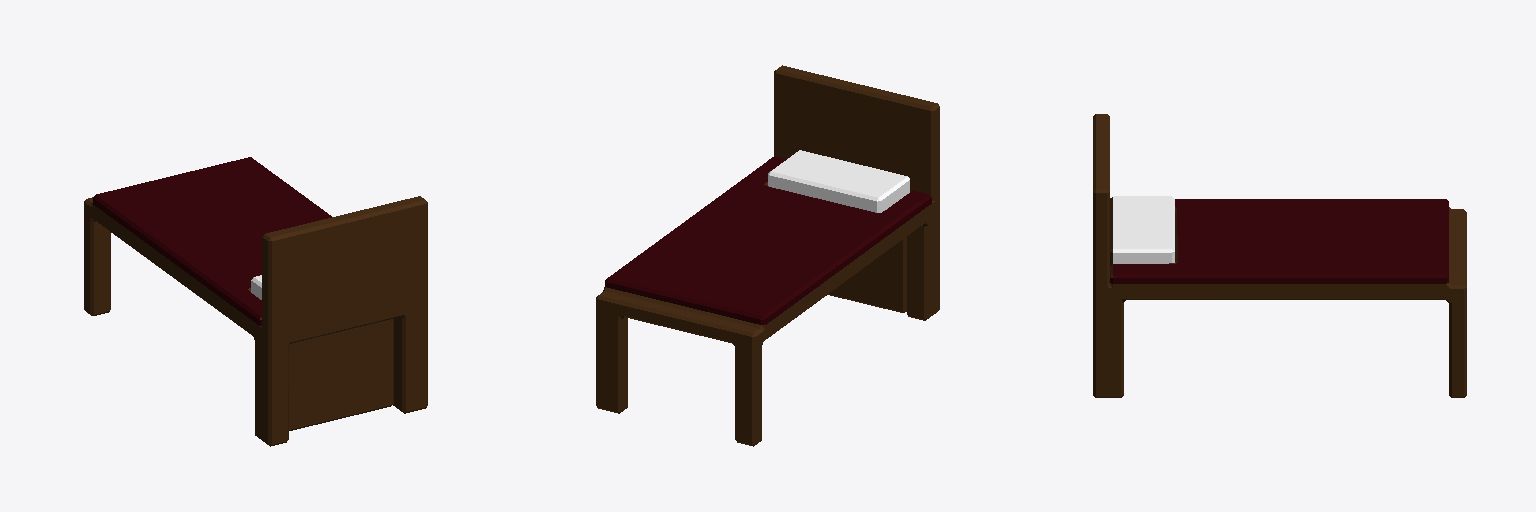
The model's file is Bed.obj.
The picture shows the model from 3 angles: view 1: azimuth 30°, elevation 25°; view 2: azimuth 150°, elevation 25°; view 3: azimuth 270°, elevation 25°; orthographic projection.
Visible parts, largest first — view 1: pCube8; view 2: pCube8; view 3: pCube8.
Boxes of the visible parts, box(x1,y1,x2,y2) form: pCube8: box(84, 157, 427, 446); pCube8: box(596, 65, 939, 446); pCube8: box(1093, 114, 1466, 397).
Bounding box in the file's own units: 55.27 × 68.79 × 111.